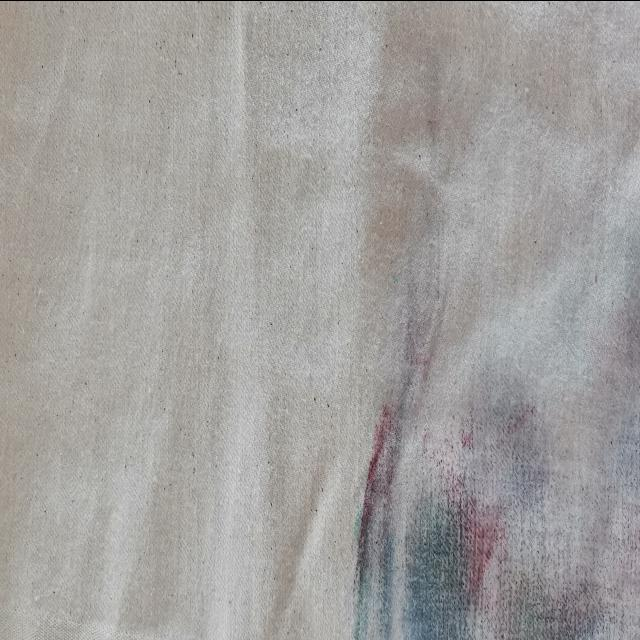taaaches: (336, 301, 640, 639)
